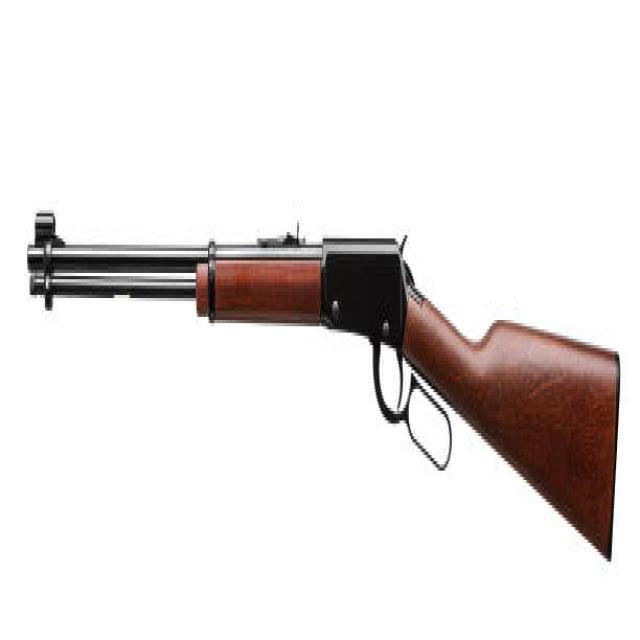rifle: (26, 192, 623, 584)
